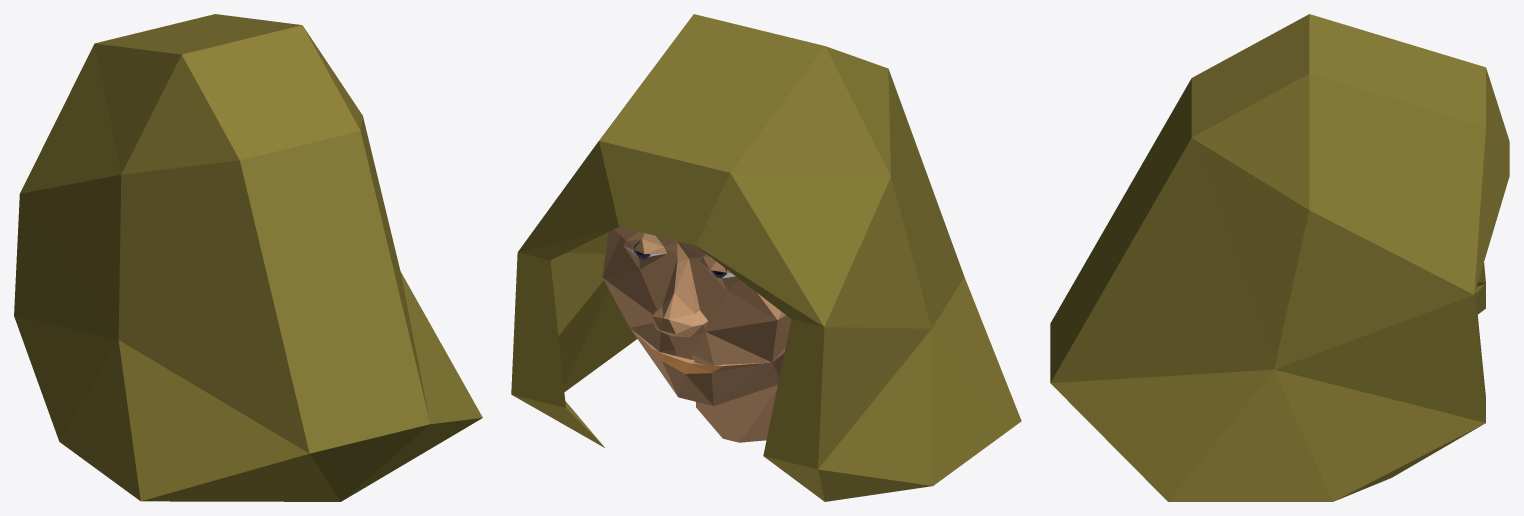
Rendered from npc_chat_jungle_forester_2_0.obj.
3 renders of one model, left to right at view 1: azimuth 30°, elevation 25°; view 2: azimuth 150°, elevation 25°; view 3: azimuth 270°, elevation 25°, orthographic. The views are drawn at different scales.
Size of the model in its own units: 1.06 by 1.16 by 1.22.
